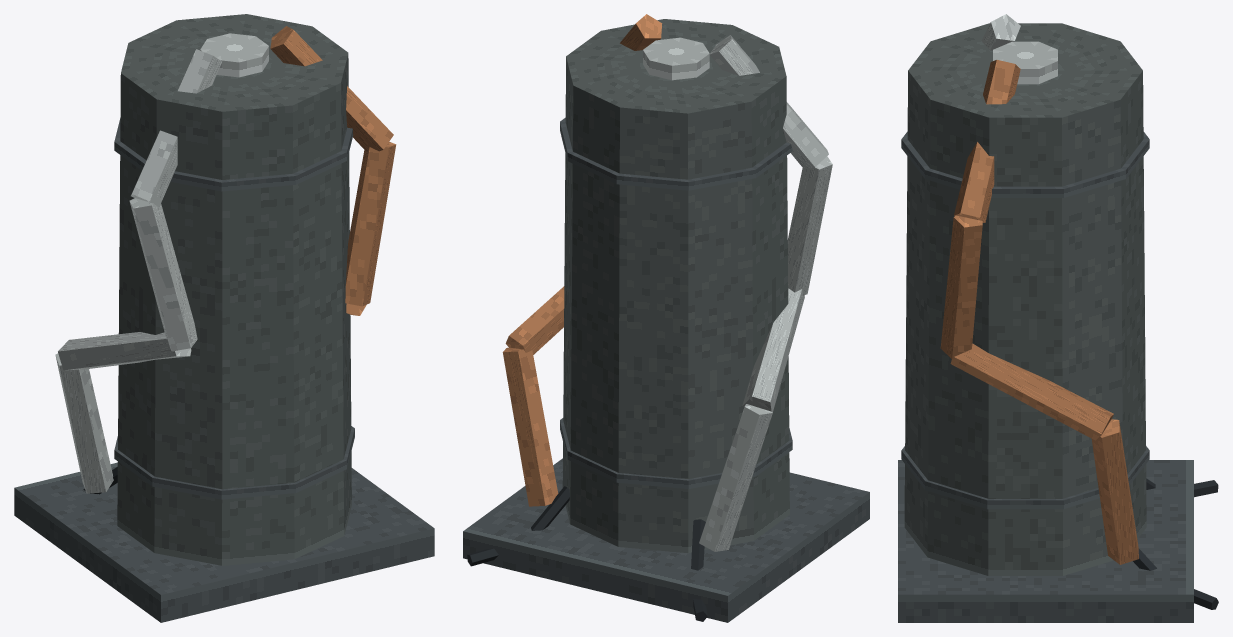
The model's file is f_exodii_generator_3.glb.
3 views of the same model, side by side, from view 1: azimuth 30°, elevation 25°; view 2: azimuth 150°, elevation 25°; view 3: azimuth 270°, elevation 25° (orthographic). The views are drawn at different scales.
Parts seen in each view (by area): view 1: block_exodii-power-core-shell, block_industrial-power-footing, block_twisted-core-pipe-3 (×2), block_twisted-core-pipe-4 (×2), block_twisted-core-pipe-1, block_twisted-core-pipe-2, block_exodii-power-core-band-0.16, block_exodii-power-core-band-0.84, block_exodii-power-core-cap; view 2: block_exodii-power-core-shell, block_industrial-power-footing, block_twisted-core-pipe-1 (×2), block_twisted-core-pipe-2 (×2), block_twisted-core-pipe-3, block_twisted-core-pipe-4 (×2), block_exodii-power-core-band-0.84, block_exodii-power-core-cap, block_exodii-power-core-band-0.16, block_grounded-generator-cable-1 (×2); view 3: block_exodii-power-core-shell, block_industrial-power-footing, block_twisted-core-pipe-2, block_twisted-core-pipe-4 (×2), block_twisted-core-pipe-3, block_twisted-core-pipe-1, block_exodii-power-core-band-0.84, block_exodii-power-core-band-0.16, block_exodii-power-core-cap.
Part boxes in pixels (x1,y1,x2,y2): block_exodii-power-core-shell: [117, 14, 351, 565]; block_industrial-power-footing: [14, 462, 434, 622]; block_twisted-core-pipe-3 (×2): [129, 141, 396, 351]; block_twisted-core-pipe-4 (×2): [131, 26, 393, 206]; block_twisted-core-pipe-1: [55, 353, 113, 493]; block_twisted-core-pipe-2: [58, 332, 191, 370]; block_exodii-power-core-band-0.16: [114, 426, 354, 499]; block_exodii-power-core-band-0.84: [114, 117, 353, 191]; block_exodii-power-core-cap: [200, 33, 268, 77]; block_exodii-power-core-shell: [562, 19, 789, 553]; block_industrial-power-footing: [463, 458, 869, 622]; block_twisted-core-pipe-1 (×2): [502, 347, 772, 551]; block_twisted-core-pipe-2 (×2): [505, 286, 804, 412]; block_twisted-core-pipe-3: [787, 156, 832, 295]; block_twisted-core-pipe-4 (×2): [620, 14, 828, 168]; block_exodii-power-core-band-0.84: [560, 117, 792, 190]; block_exodii-power-core-cap: [643, 37, 709, 80]; block_exodii-power-core-band-0.16: [560, 418, 792, 489]; block_grounded-generator-cable-1 (×2): [531, 486, 705, 570]; block_exodii-power-core-shell: [904, 23, 1146, 575]; block_industrial-power-footing: [898, 460, 1193, 622]; block_twisted-core-pipe-2: [950, 343, 1113, 440]; block_twisted-core-pipe-4 (×2): [954, 14, 1020, 222]; block_twisted-core-pipe-3: [940, 215, 982, 359]; block_twisted-core-pipe-1: [1091, 419, 1138, 564]; block_exodii-power-core-band-0.84: [901, 131, 1149, 197]; block_exodii-power-core-band-0.16: [901, 446, 1149, 509]; block_exodii-power-core-cap: [993, 41, 1057, 84].
Bounding box in the file's own units: 0.8483 × 1.51 × 0.8454.
Materials: 1 (1 with a texture image).
